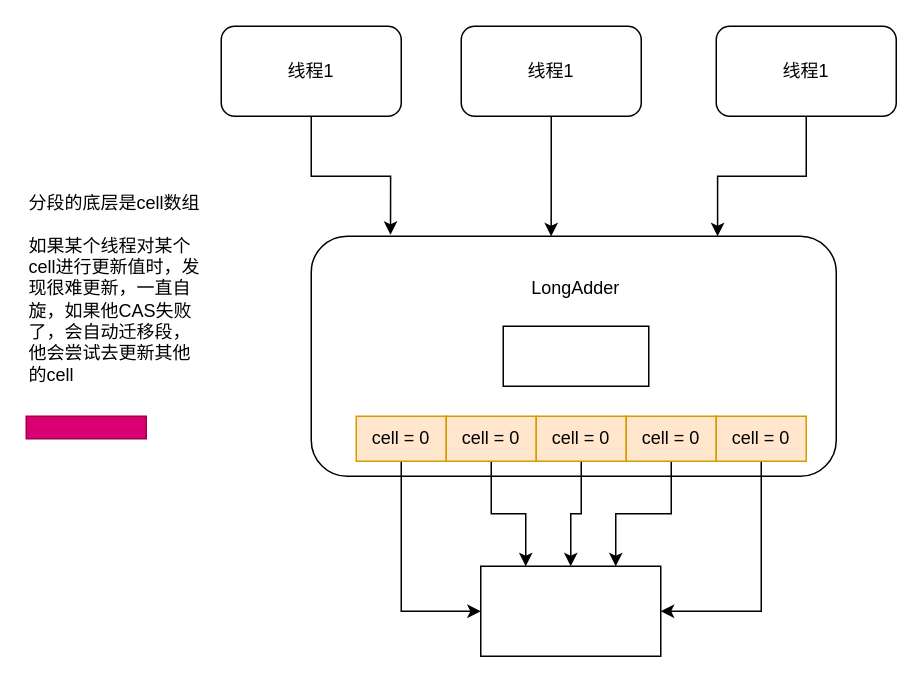
This 923x683 diagram has some shape labels left out. The shapes that lost their labels are listed below. From the top down, each one's box as (x1, y1, x2, y2) in pixels, then its label:
(502, 325, 649, 386): base = 0
(25, 415, 146, 439): 分段迁移
(479, 565, 661, 656): 获取值
